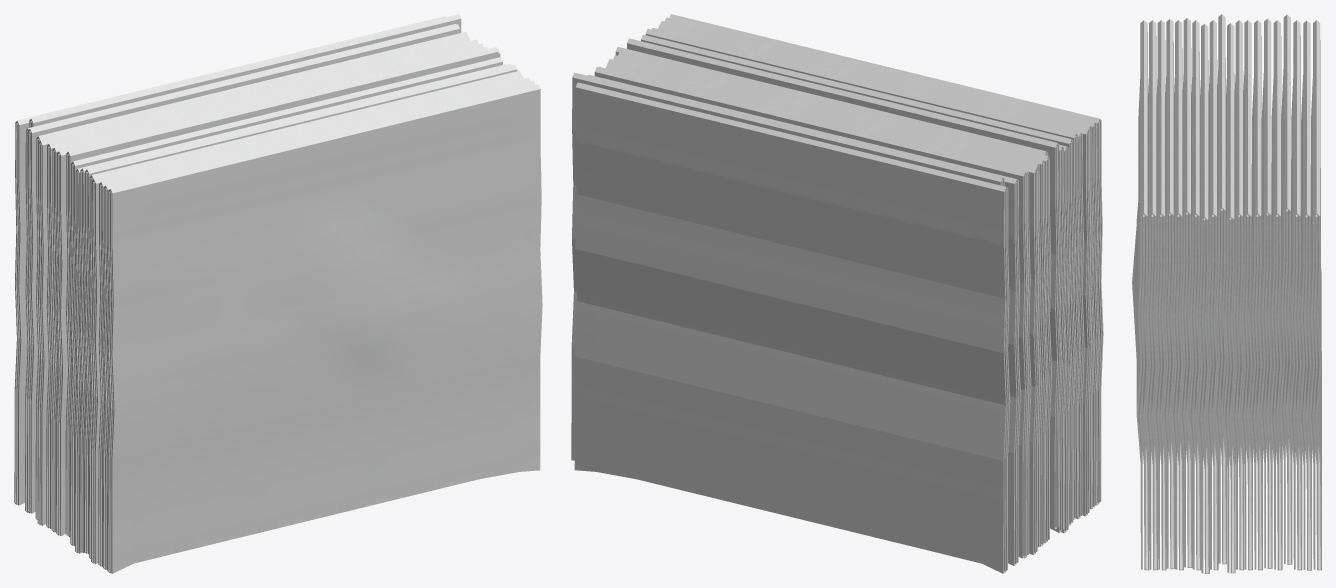
The model's file is napkins.glb.
3 renders of one model, left to right at view 1: azimuth 30°, elevation 25°; view 2: azimuth 150°, elevation 25°; view 3: azimuth 270°, elevation 25°, orthographic. The views are drawn at different scales.
Visible parts, largest first — view 1: napkin; view 2: napkin; view 3: napkin.
Part boxes in pixels (box(x1,y1,x2,y2)): napkin: box(14, 14, 542, 573); napkin: box(571, 14, 1103, 573); napkin: box(1132, 14, 1321, 573).
Size of the model in its own units: 0.2096 by 0.1803 by 0.0846.
Materials: 1 (1 with a texture image).
